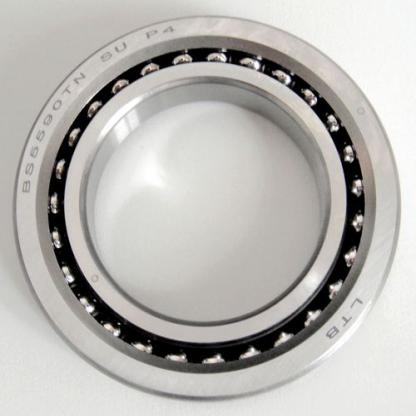FOD: (8, 13, 406, 404)
